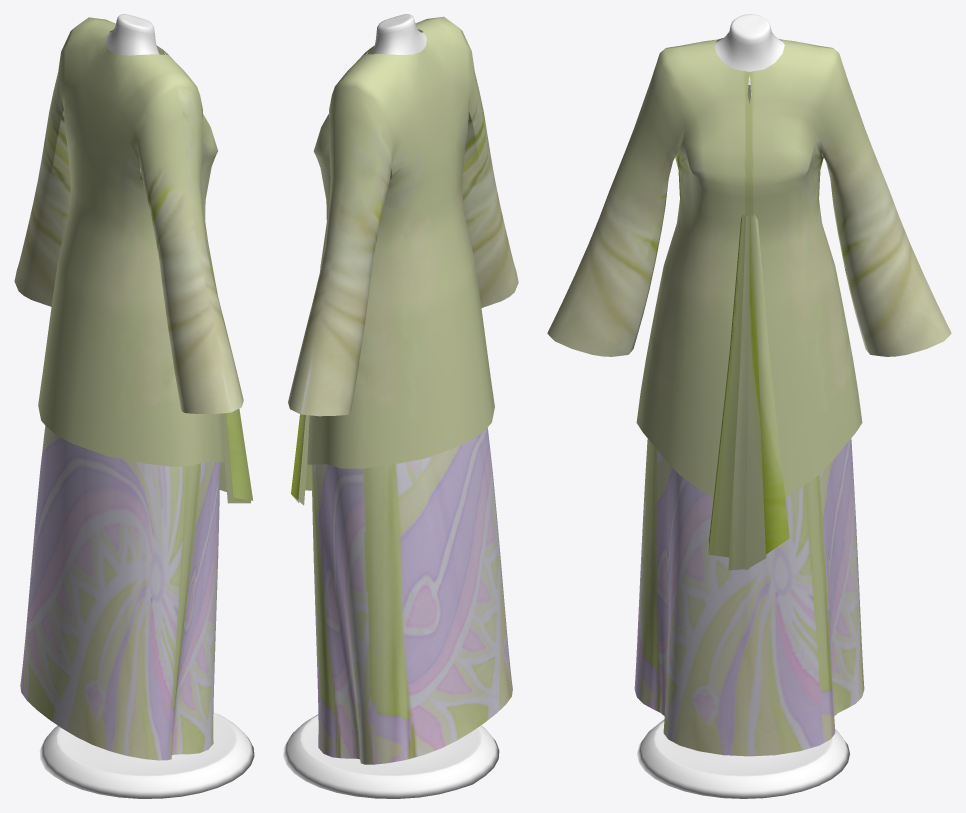
The model's file is Kebaya Moden Kain Kapas.fbx.
3 views of the same model, side by side, from view 1: azimuth 30°, elevation 25°; view 2: azimuth 150°, elevation 25°; view 3: azimuth 270°, elevation 25° (orthographic).
Parts seen in each view (by area): view 1: Baju_1, Kaftan Lengan (EMP (TRG) 30 (8)).009, Mannequin.027; view 2: Baju_1, Kaftan Lengan (EMP (TRG) 30 (8)).009, Mannequin.027; view 3: Baju_1, Kaftan Lengan (EMP (TRG) 30 (8)).009, Mannequin.027.
Boxes of the visible parts, x1=… form: Baju_1: x1=14, y1=17, x2=252, y2=760; Kaftan Lengan (EMP (TRG) 30 (8)).009: x1=39, y1=712, x2=254, y2=798; Mannequin.027: x1=106, y1=14, x2=159, y2=55; Baju_1: x1=288, y1=16, x2=518, y2=764; Kaftan Lengan (EMP (TRG) 30 (8)).009: x1=283, y1=714, x2=499, y2=798; Mannequin.027: x1=372, y1=14, x2=426, y2=54; Baju_1: x1=547, y1=37, x2=951, y2=756; Kaftan Lengan (EMP (TRG) 30 (8)).009: x1=637, y1=720, x2=849, y2=798; Mannequin.027: x1=714, y1=14, x2=784, y2=95.
Size of the model in its own units: 44.59 by 164 by 82.17.
4 materials, 2 textured.
